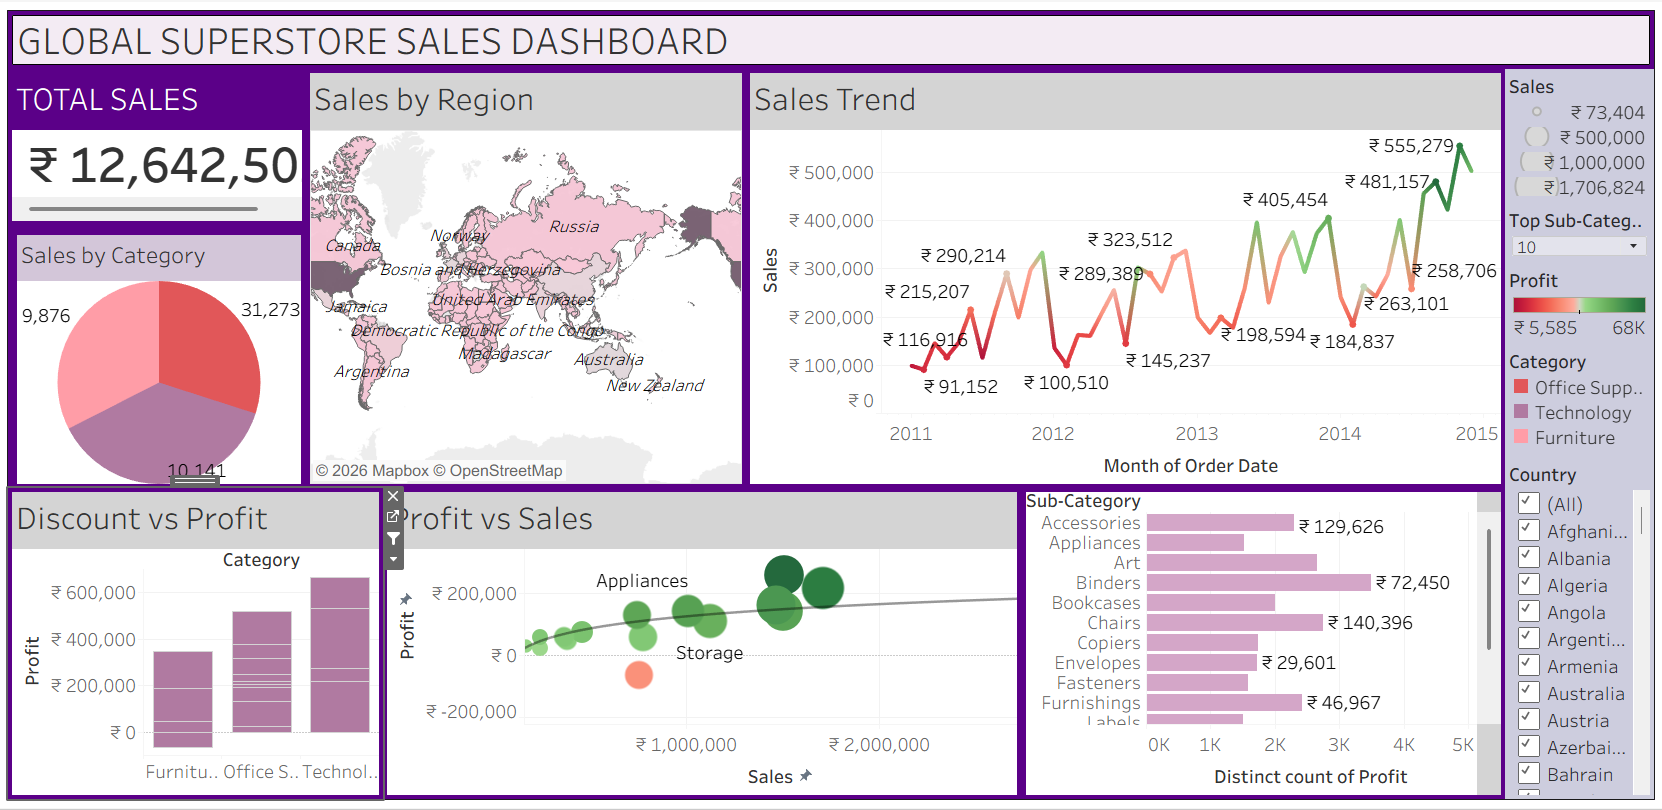

What the dashboard file says about the page in this screenshot:
{"tool":"tableau","page":{"name":"Dashboard 1","canvas":[1000,1000],"units":"permille","ordinal":0},"visuals":[{"type":"title","box":[5.4,11.2,989.2,72]},{"type":"worksheet","title":"Sheet 8","mark":"Automatic","box":[5.4,83.1,179,519.8]},{"type":"worksheet","title":"Sales by Region","mark":"Automatic","box":[184.4,83.1,264.4,519.8]},{"type":"worksheet","title":"Sales Trend","mark":"Automatic","rows":["Sales"],"cols":["Order Date"],"box":[448.8,83.1,456.3,519.8]},{"type":"legend","title":"Profit vs Sales","param":"[federated.0b4okxg05wp7xi0zo07pt0g5qvod].[sum:Sales:qk]","box":[905.1,83.1,89.5,166.3]},{"type":"parameter","param":"[Parameters].[Parameter 1]","box":[905.1,249.4,89.5,74.5]},{"type":"worksheet","title":"Sales by Category","mark":"Pie","box":[10.6,289.1,170.8,308.9]},{"type":"legend","title":"Sales Trend","param":"[federated.0b4okxg05wp7xi0zo07pt0g5qvod].[sum:Profit:qk]","box":[905.1,323.8,89.5,100.5]},{"type":"legend","title":"Sales by Category","param":"[federated.0b4okxg05wp7xi0zo07pt0g5qvod].[none:Category:nk]","box":[905.1,424.3,89.5,140.2]},{"type":"filter","title":"Sales by Region","param":"[federated.0b4okxg05wp7xi0zo07pt0g5qvod].[none:Country:nk]","box":[905.1,564.5,89.5,424.3]},{"type":"worksheet","title":"Discount vs Profit","mark":"Automatic","rows":["Profit"],"cols":["Category"],"box":[5.4,602.9,225.4,385.9]},{"type":"worksheet","title":"Profit vs Sales","mark":"Automatic","rows":["Profit"],"cols":["Sales"],"box":[230.8,602.9,383.7,385.9]},{"type":"worksheet","title":"Profit by Category","mark":"Automatic","rows":["Sub-Category"],"cols":["Profit"],"box":[614.5,602.9,290.5,385.9]}]}

Visuals, with their boxes on the dashboard's canvas, which has no fixed pixel size, in thousandths of its width and height (x1, y1, x2, y2). These are canvas units, not pixel positions in the 1662x810 screenshot, which may show the page scaled, cropped or inside an application window:
title: bbox=[5, 11, 995, 83]
"Sheet 8" worksheet: bbox=[5, 83, 184, 603]
"Sales by Region" worksheet: bbox=[184, 83, 449, 603]
"Sales Trend" worksheet: bbox=[449, 83, 905, 603]
"Profit vs Sales" legend: bbox=[905, 83, 995, 249]
parameter: bbox=[905, 249, 995, 324]
"Sales by Category" worksheet (Pie marks): bbox=[11, 289, 181, 598]
"Sales Trend" legend: bbox=[905, 324, 995, 424]
"Sales by Category" legend: bbox=[905, 424, 995, 564]
"Sales by Region" filter: bbox=[905, 564, 995, 989]
"Discount vs Profit" worksheet: bbox=[5, 603, 231, 989]
"Profit vs Sales" worksheet: bbox=[231, 603, 614, 989]
"Profit by Category" worksheet: bbox=[614, 603, 905, 989]
